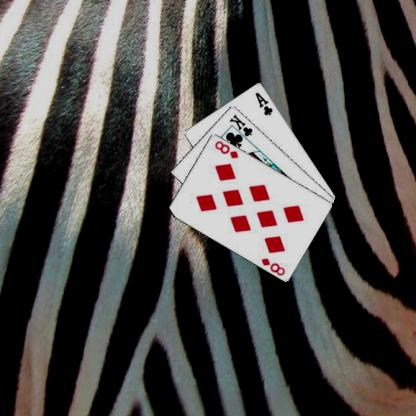8D: (260, 255, 288, 277), (214, 138, 242, 159)
AC: (254, 90, 275, 116)
KC: (228, 111, 256, 143)
